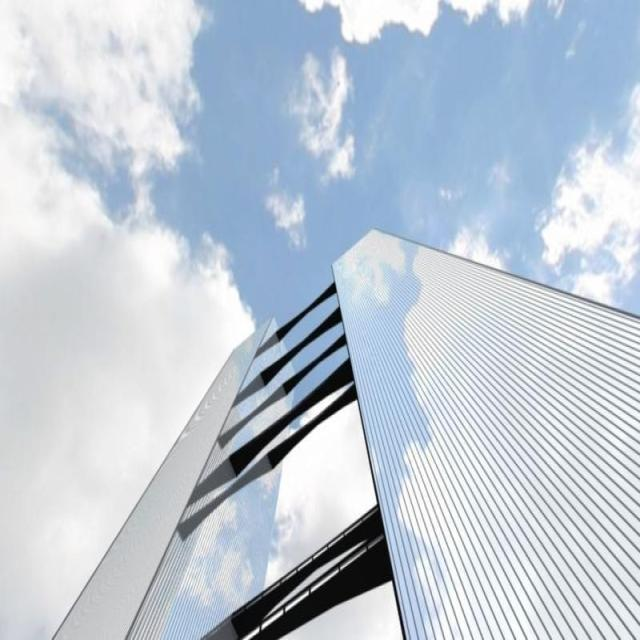building: (52, 226, 640, 639)
